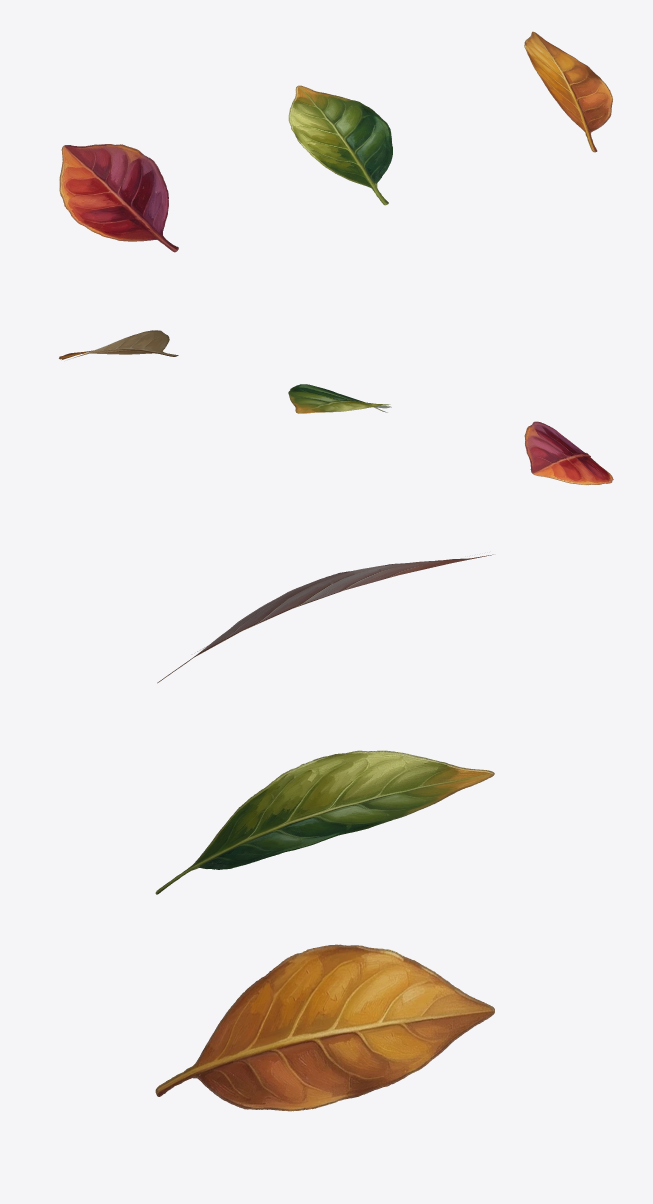
The picture shows the model from 3 angles, top to bottom: view 1: azimuth 30°, elevation 25°; view 2: azimuth 150°, elevation 25°; view 3: azimuth 270°, elevation 25°; orthographic projection. The views are drawn at different scales.
Parts seen in each view (by area): view 1: leaf_ex_0, leaf_ex_1, leaf_ex_2; view 2: leaf_ex_0, leaf_ex_1, leaf_ex_2; view 3: leaf_ex_2, leaf_ex_1, leaf_ex_0.
Boxes of the visible parts, x1,y1,x2,y2 form: leaf_ex_0: [59, 144, 178, 252]; leaf_ex_1: [288, 85, 392, 205]; leaf_ex_2: [524, 31, 612, 152]; leaf_ex_0: [524, 421, 613, 485]; leaf_ex_1: [288, 384, 391, 413]; leaf_ex_2: [59, 330, 178, 359]; leaf_ex_2: [155, 944, 494, 1111]; leaf_ex_1: [155, 750, 494, 894]; leaf_ex_0: [157, 554, 493, 683].
Size of the model in its own units: 0.3297 by 0.0602 by 0.0919.
Materials: 2 (2 with a texture image).
